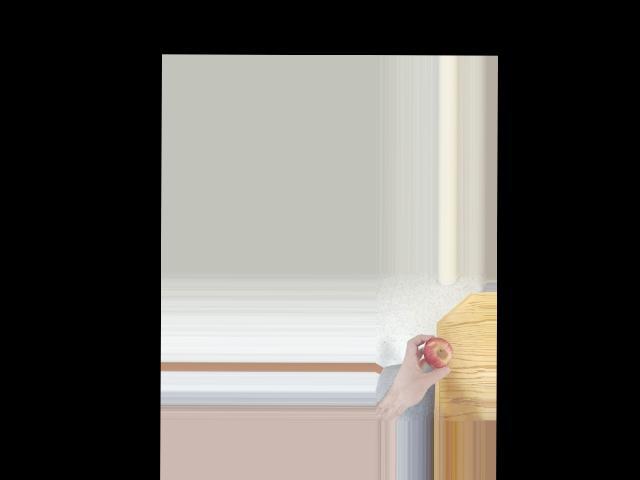apple: (421, 336, 453, 373)
